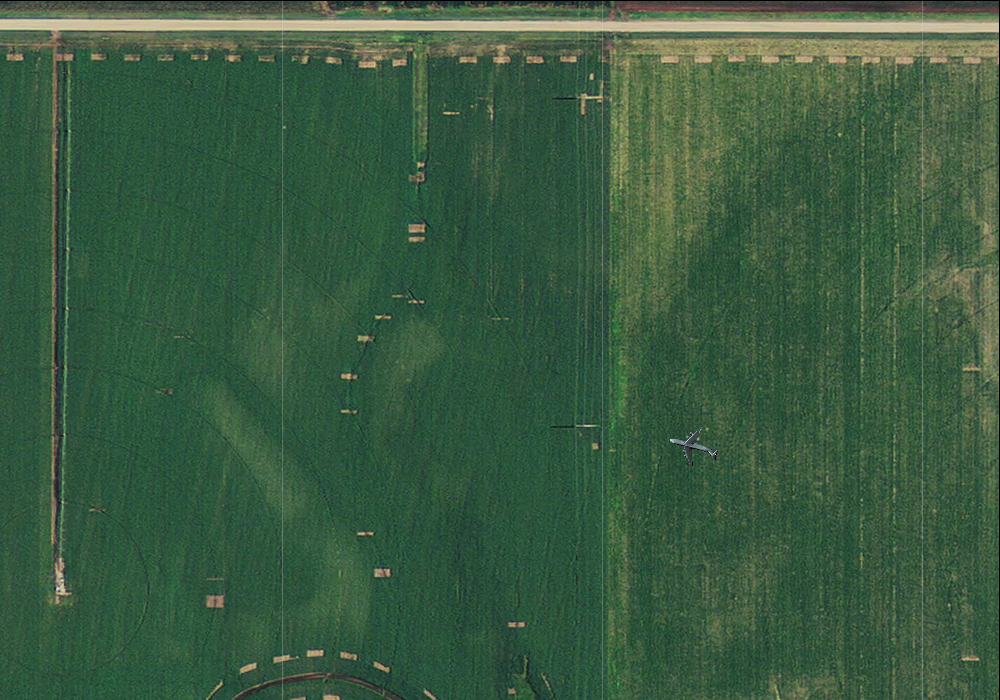plane: (663, 418, 724, 477)
